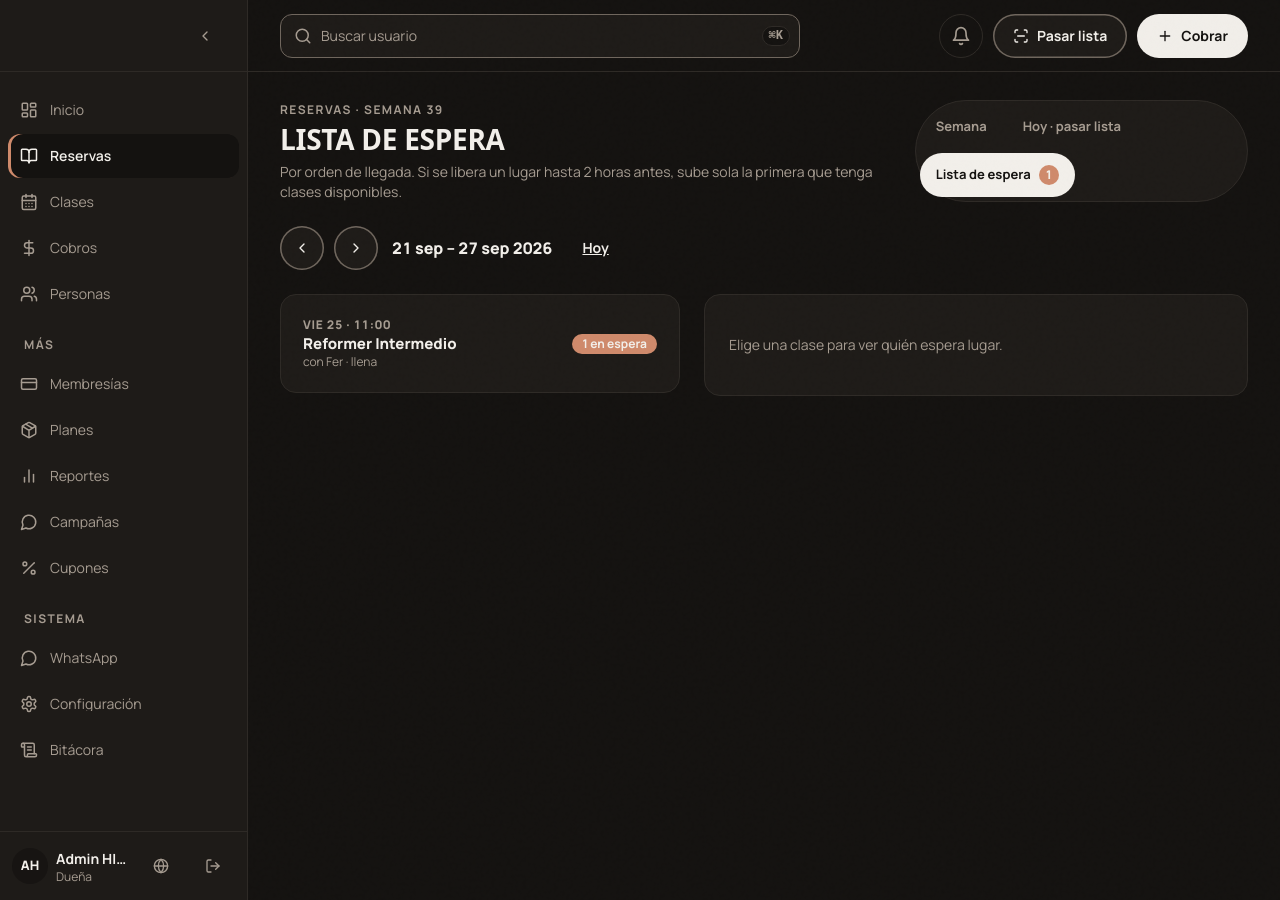
Test: Lista de espera › de verdad llena, sí lo dice
expect the text "con Fer · llena" is shown: met, box 303,353 -> 377,370
Click the button "Reformer Intermedio" at (323, 324), box 289,303 -> 671,384
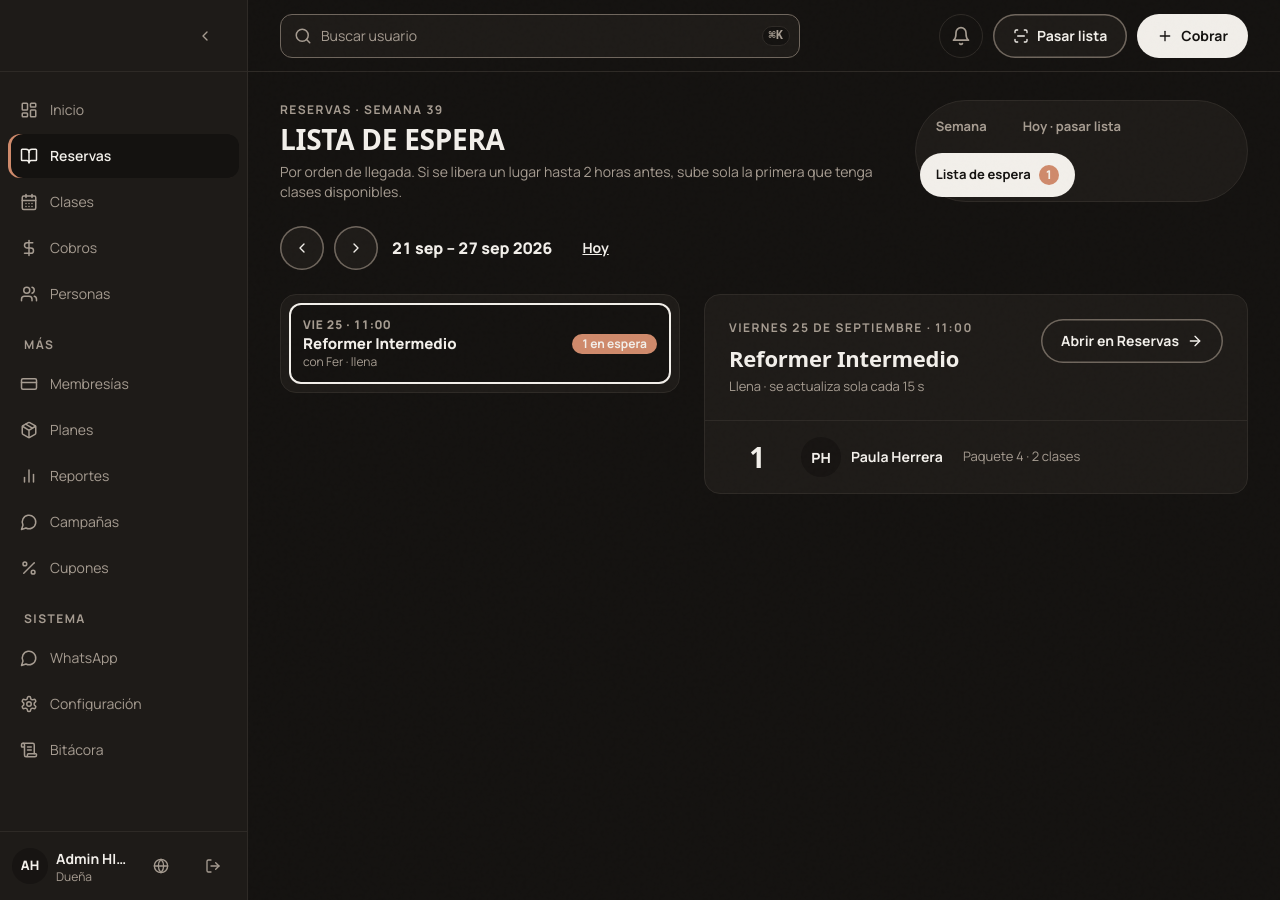
expect the text "Llena · se actualiza sola cada 15 s" is shown: met, box 729,376 -> 924,394
